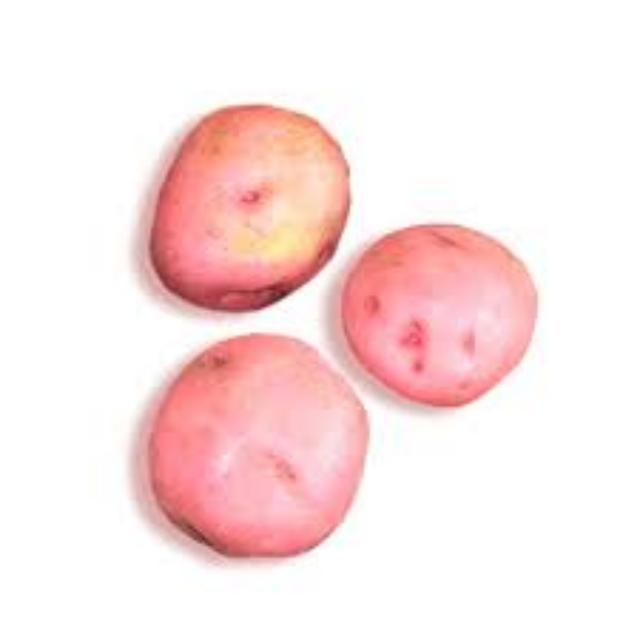Defected potato: (146, 330, 372, 560), (146, 102, 354, 318), (336, 220, 542, 412)
